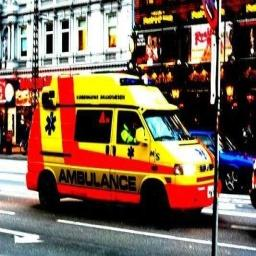Ambulance: (26, 73, 214, 209)
